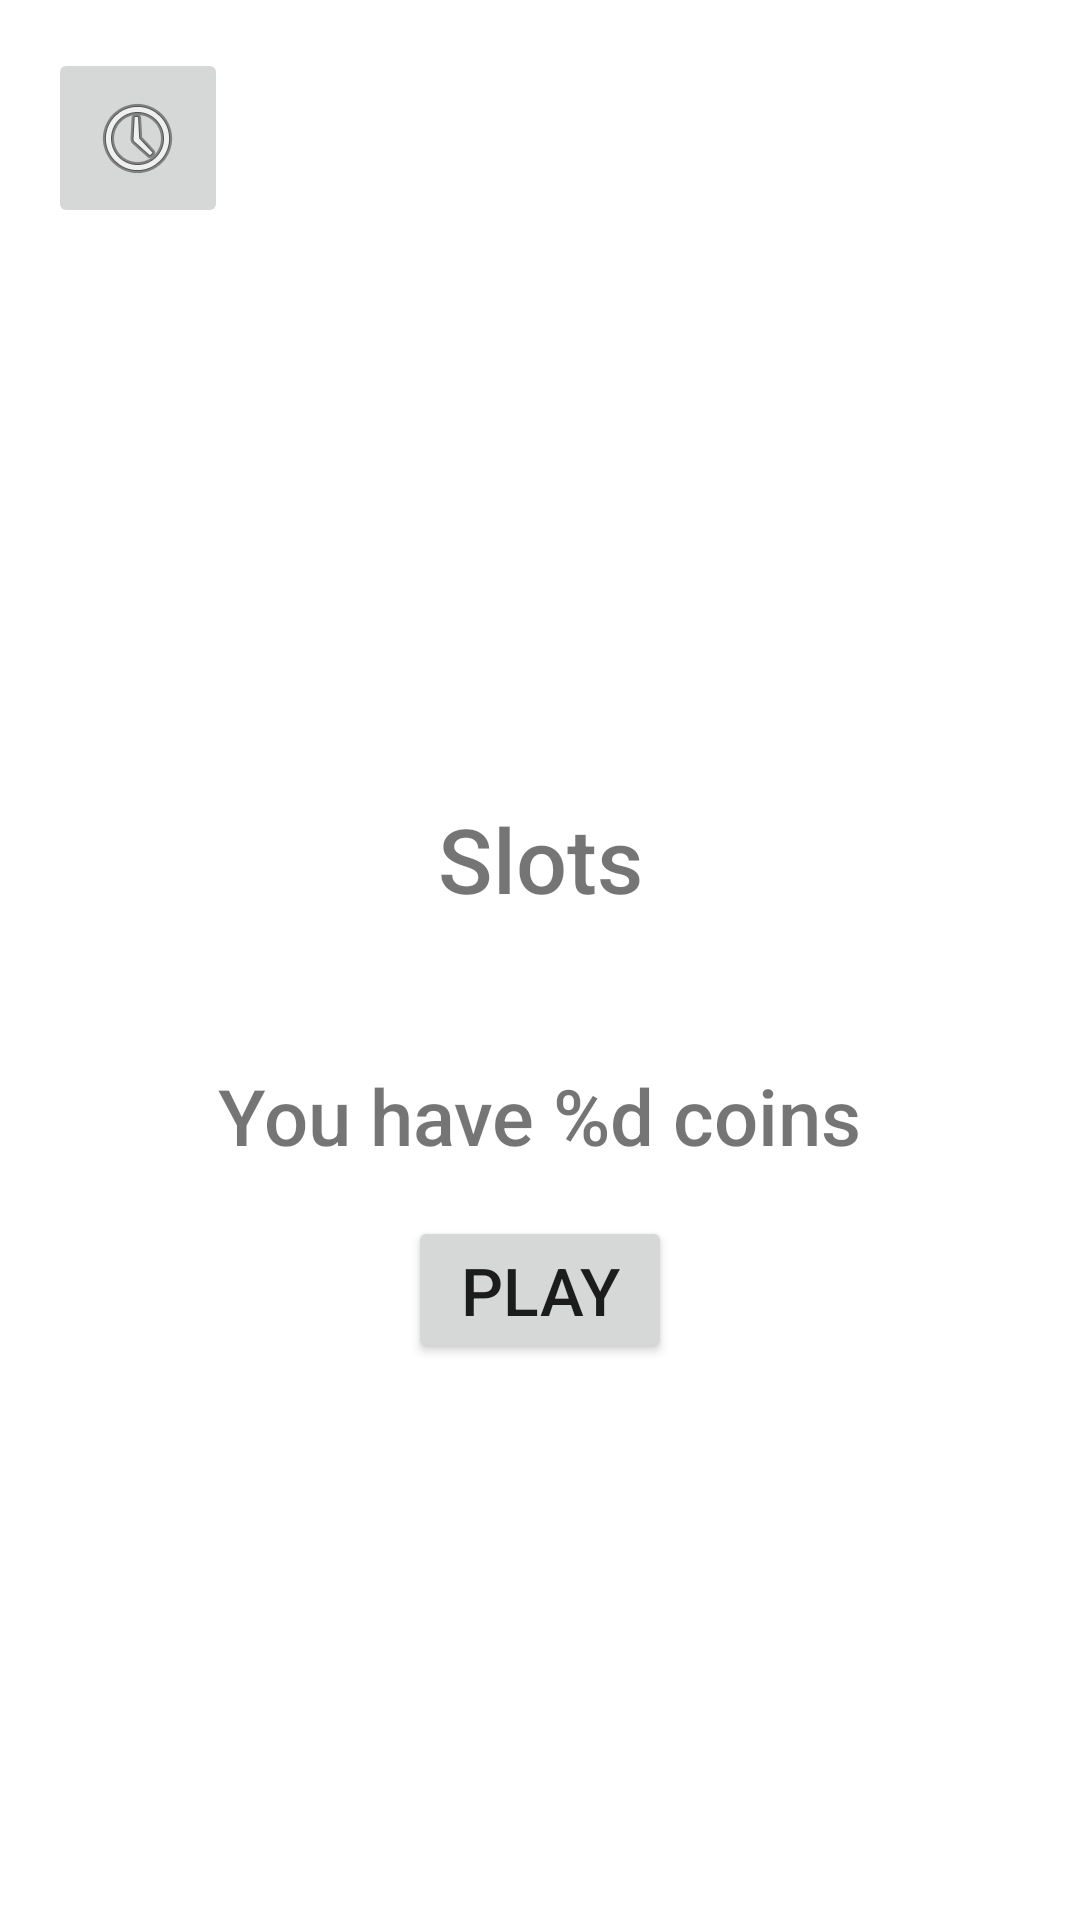

Named icons in this screenshot (1080 x 1920) and their bounding boxes, (x1,y1,x2,y2):
History of games: (60,66,216,210)
